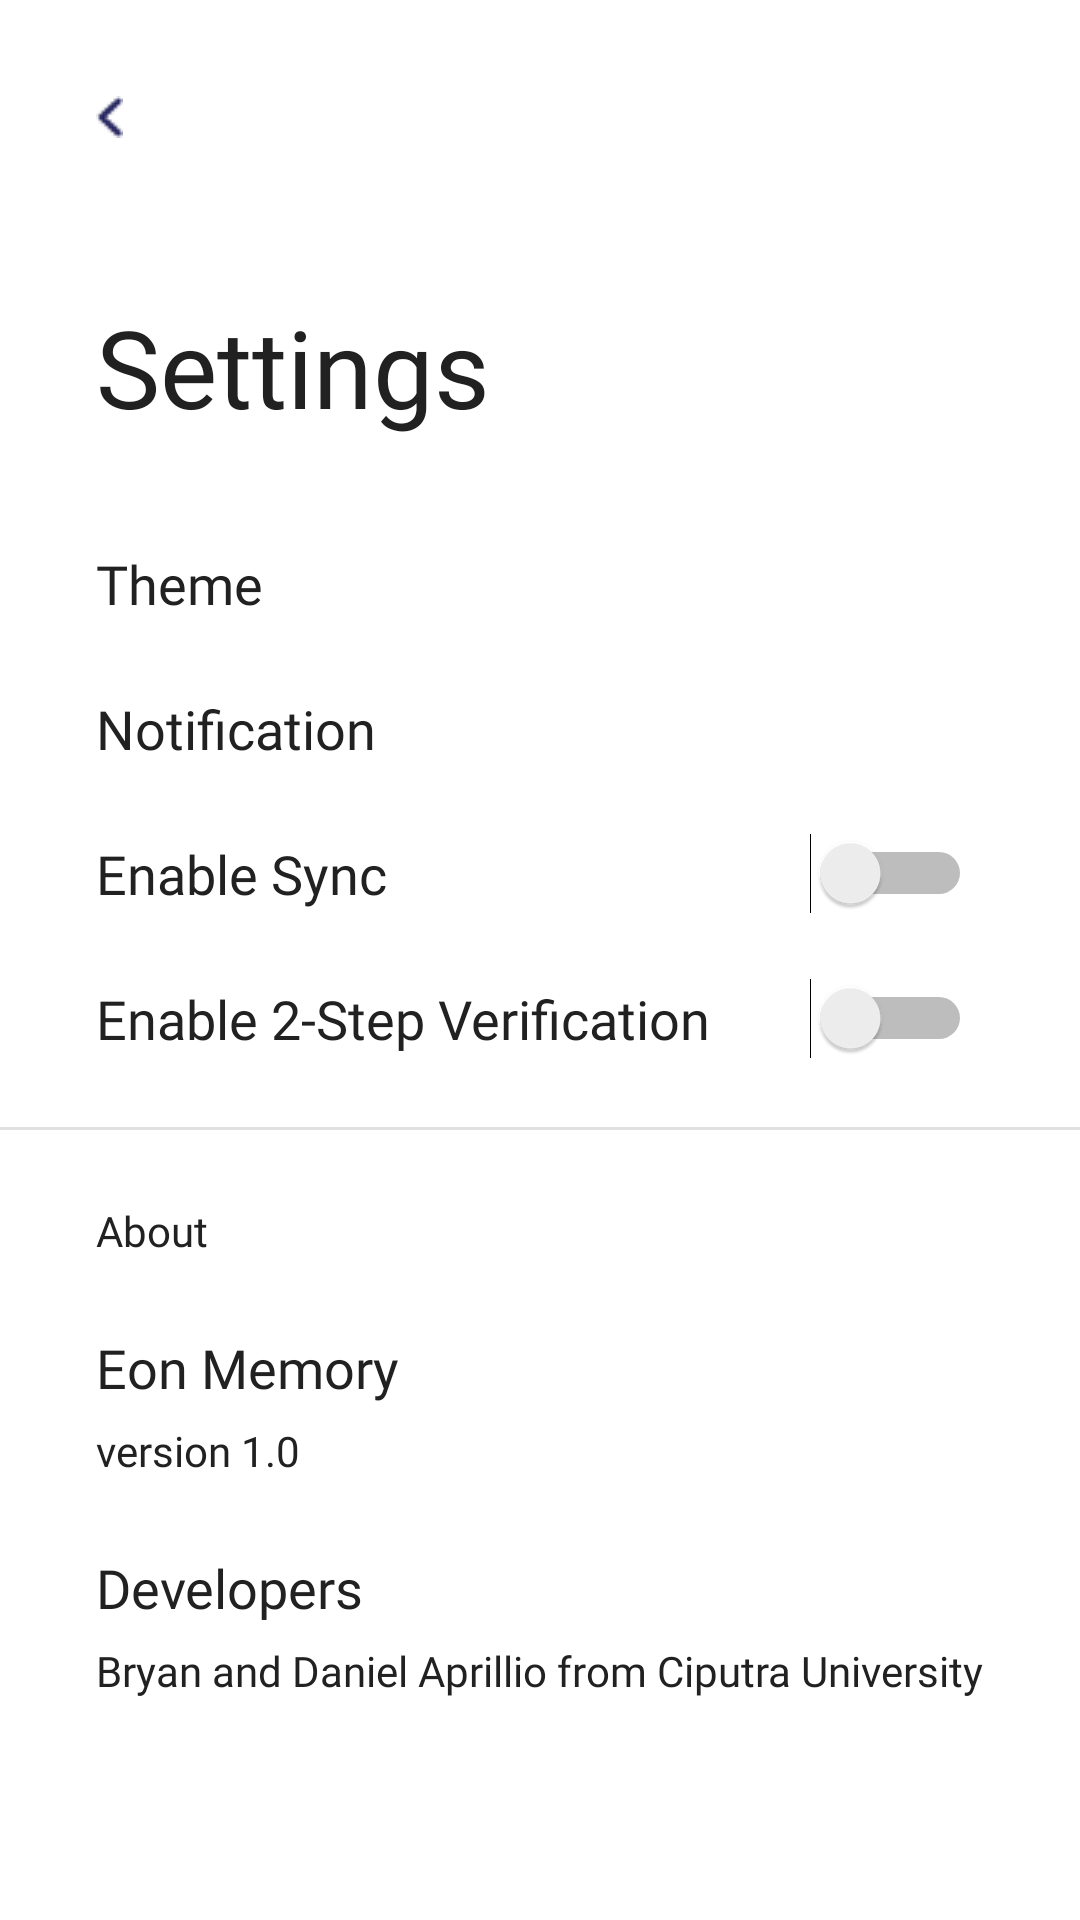

Icon bounding boxes for this 1080×1920 phone screenshot, format (x1, y1, x2, y2):
back arrow: (96, 96, 123, 138)
